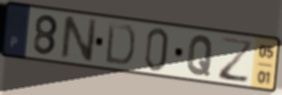0: (142, 26, 171, 73)
8: (32, 13, 59, 57)
D: (103, 20, 137, 68)
N: (59, 14, 99, 64)
Q: (185, 34, 215, 78)
Z: (218, 35, 256, 86)
